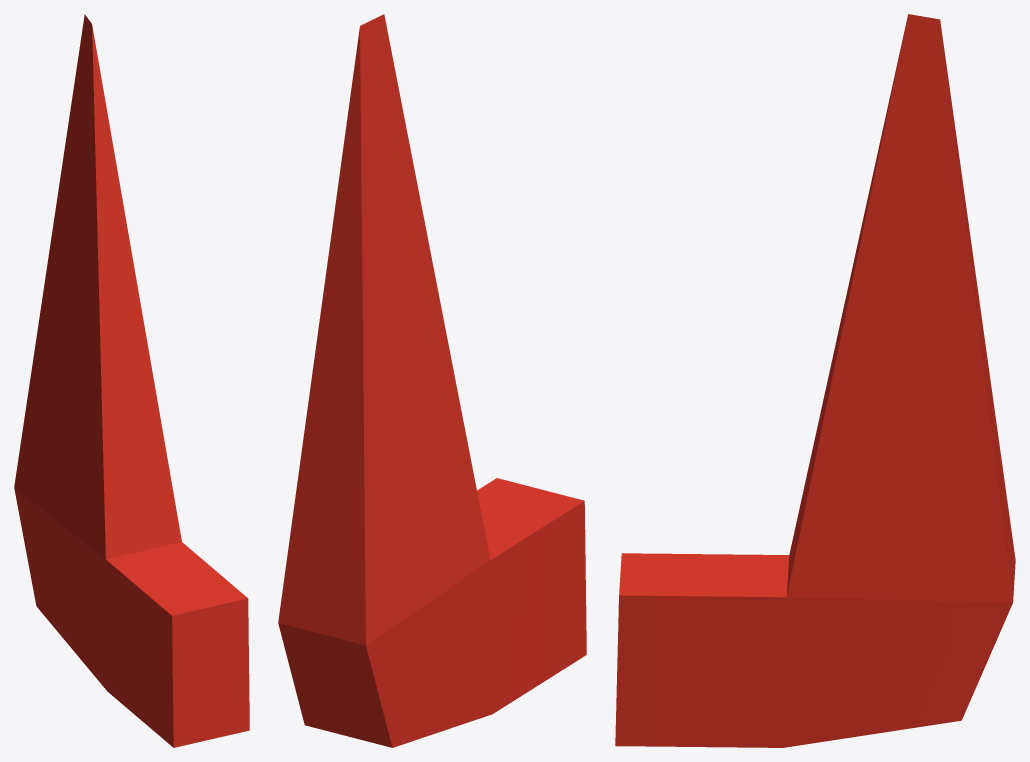
The model's file is SM_Lever_Arrow.FBX.
The picture shows the model from 3 angles, left to right: view 1: azimuth 30°, elevation 25°; view 2: azimuth 150°, elevation 25°; view 3: azimuth 270°, elevation 25°; orthographic projection. The views are drawn at different scales.
Visible parts, largest first — view 1: Box002; view 2: Box002; view 3: Box002.
Part boxes in pixels (x1=…): Box002: x1=14, y1=14, x2=249, y2=747; Box002: x1=278, y1=14, x2=586, y2=747; Box002: x1=615, y1=14, x2=1015, y2=747.
Size of the model in its own units: 1.76 by 11.85 by 6.02.
